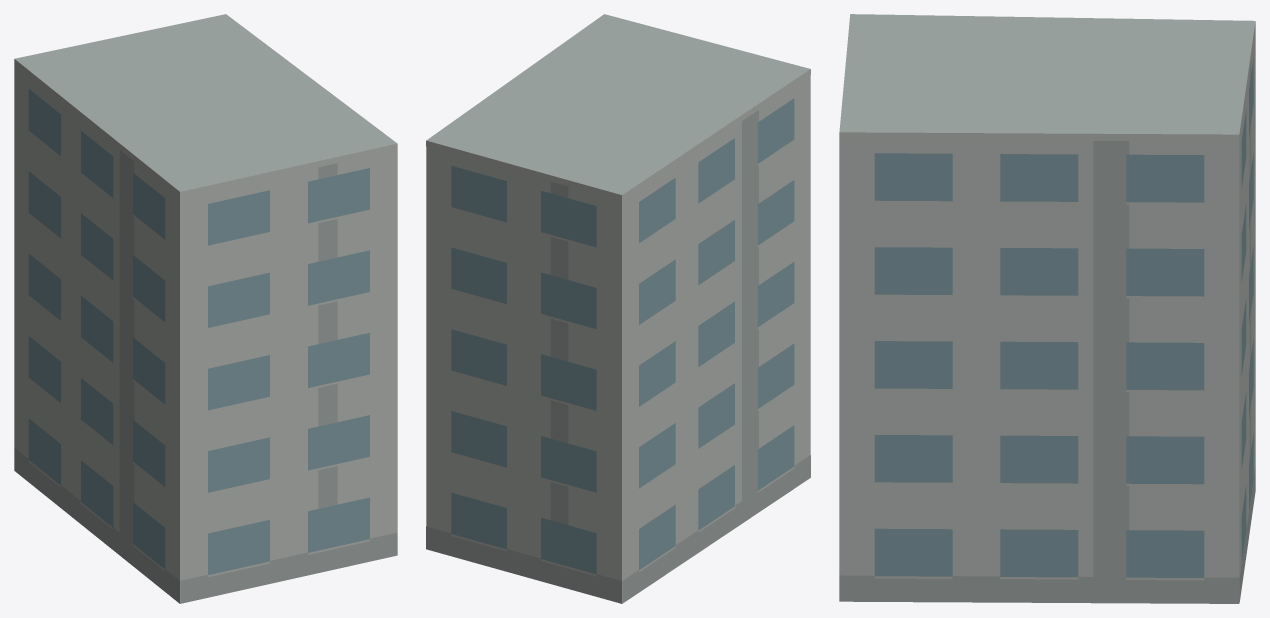
File: survey-upis-32840404.glb
3 views of the same model, side by side, from view 1: azimuth 30°, elevation 25°; view 2: azimuth 150°, elevation 25°; view 3: azimuth 270°, elevation 25° (orthographic). The views are drawn at different scales.
Visible parts, largest first — view 1: survey-upis-32840404.tmp; view 2: survey-upis-32840404.tmp; view 3: survey-upis-32840404.tmp.
Part boxes in pixels (x1=…): survey-upis-32840404.tmp: x1=14, y1=14, x2=397, y2=603; survey-upis-32840404.tmp: x1=426, y1=14, x2=810, y2=603; survey-upis-32840404.tmp: x1=839, y1=14, x2=1255, y2=603.
Bounding box in the file's own units: 8.85 × 16.05 × 12.91.
